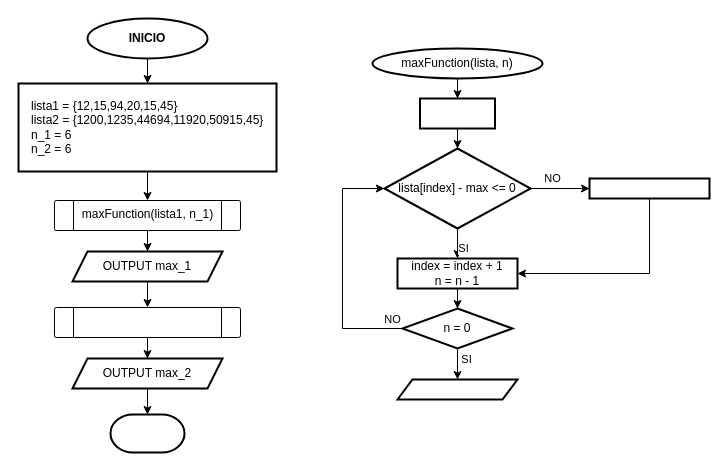
The diagram is 727 pixels wide and 470 high, and some of its shapes have lost their labels. The centre of each missing label's shape, as x and y in pixels:
"FIN" belongs at point (147, 433).
"max = 0 index = 0" belongs at point (457, 113).
"max = lista[index]" belongs at point (649, 188).
"maxFunction(lista2, n_2)" belongs at point (147, 322).
"RETURN max" belongs at point (457, 389).
